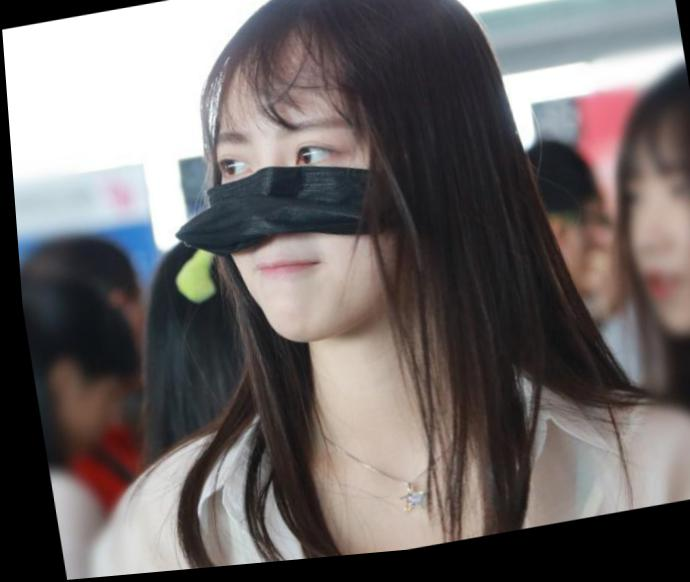NONE: (611, 151, 690, 363)
WRONG: (160, 99, 433, 375)
